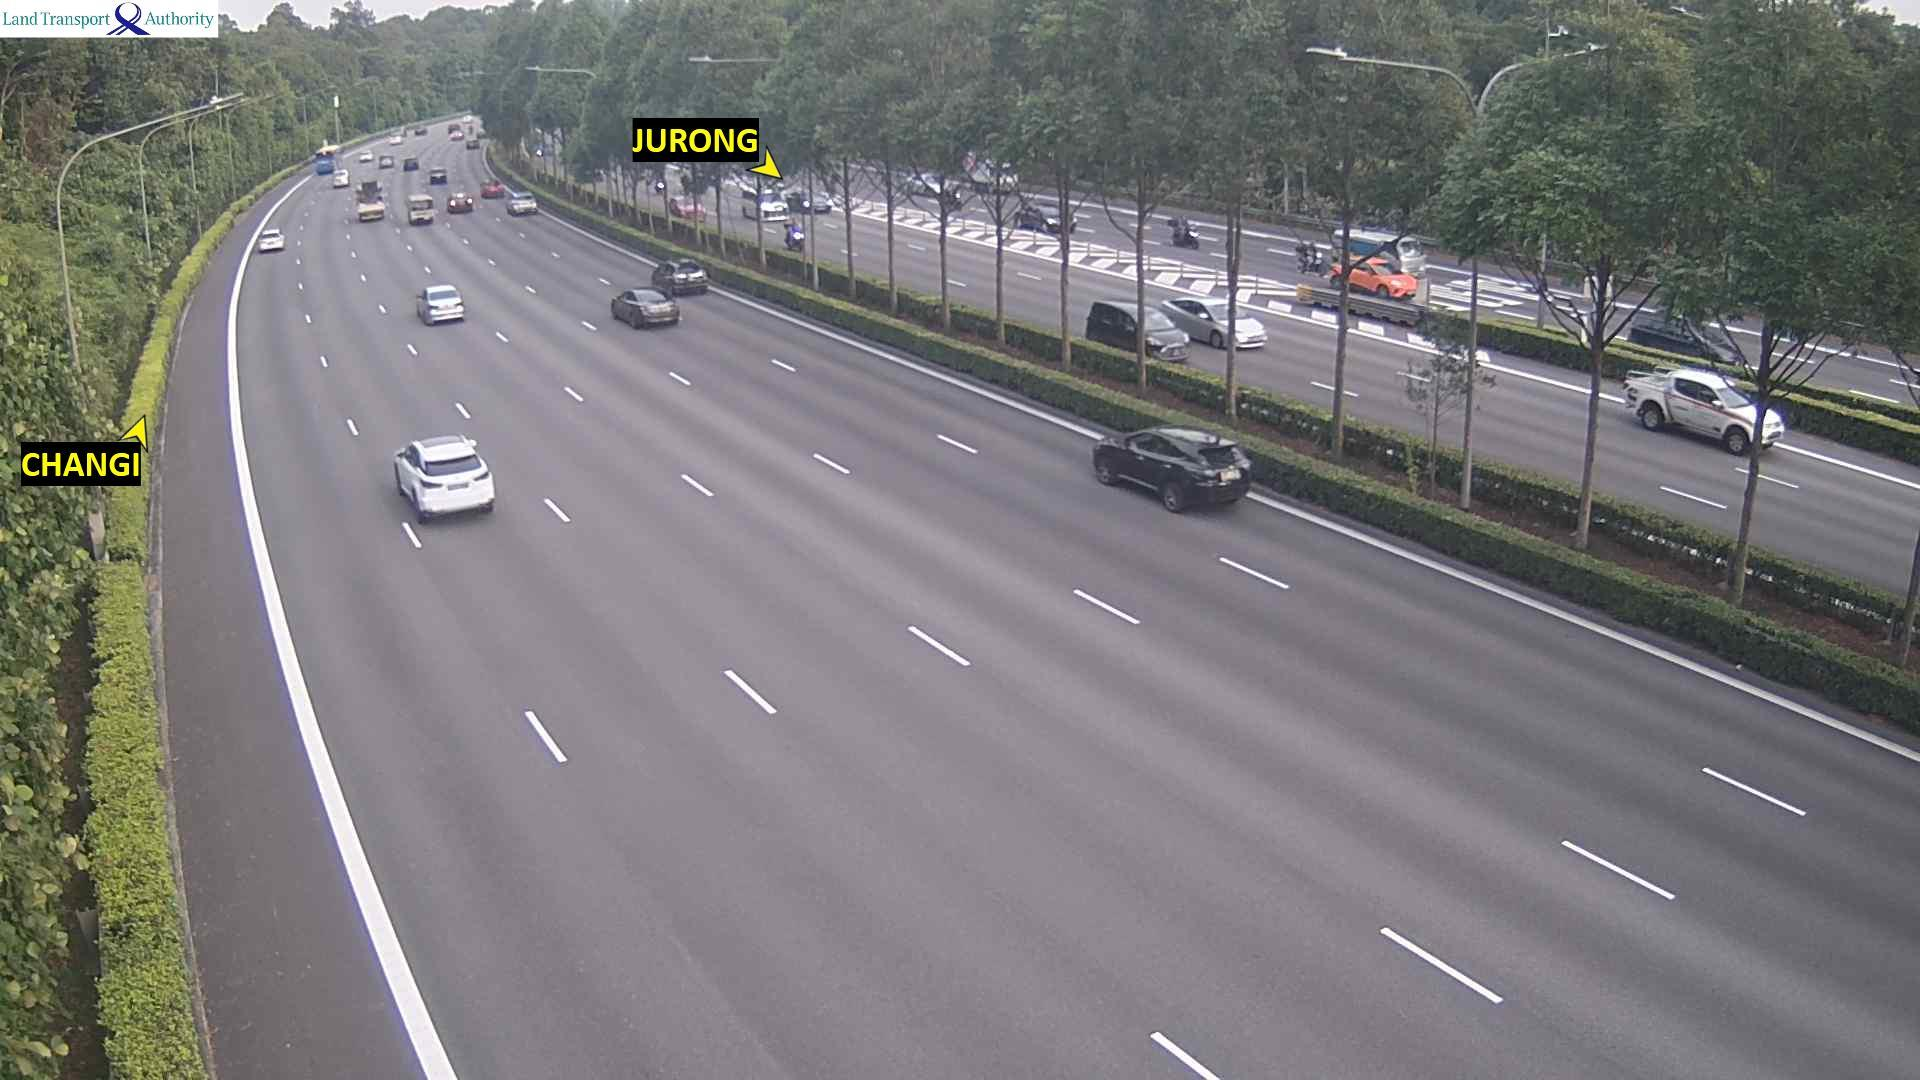incoming: (1692, 373, 1796, 455), (1192, 299, 1270, 356), (1120, 311, 1199, 361), (1362, 257, 1420, 307), (1031, 203, 1075, 236), (756, 191, 790, 224), (673, 199, 715, 218), (800, 191, 835, 212), (1184, 227, 1208, 255), (789, 224, 808, 255), (1312, 251, 1332, 278)
